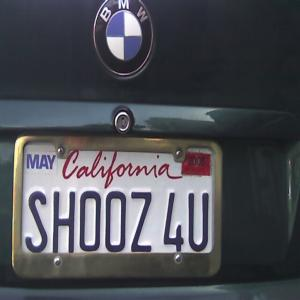Vehicle-registration-plate: (12, 135, 222, 279)
